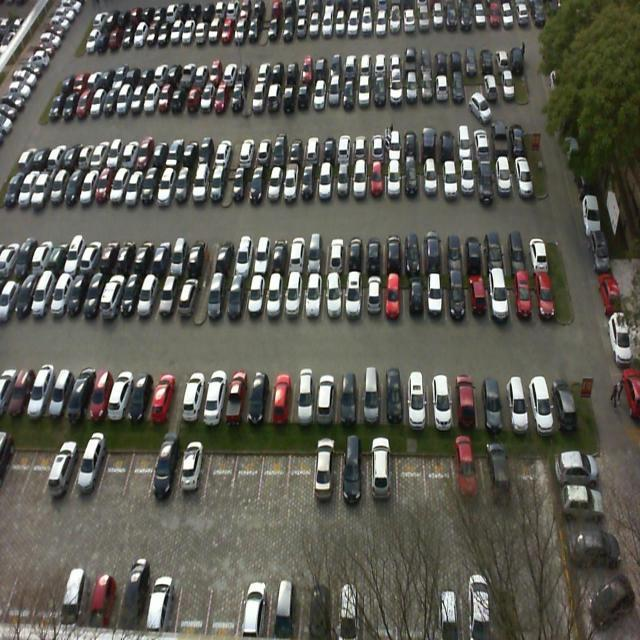Car: (43, 444, 79, 498), (70, 446, 106, 500), (148, 444, 182, 499), (544, 370, 576, 426), (498, 373, 528, 431), (175, 446, 209, 496), (223, 370, 254, 424), (312, 451, 342, 506), (522, 370, 550, 428), (116, 271, 146, 323), (64, 368, 92, 420), (476, 372, 502, 428), (82, 370, 111, 420), (106, 371, 134, 422), (222, 272, 248, 326), (126, 370, 154, 420), (452, 374, 478, 427), (136, 268, 162, 320), (268, 373, 294, 425), (428, 376, 454, 428), (153, 274, 180, 324), (245, 372, 272, 422), (312, 372, 336, 428), (202, 370, 228, 420), (262, 270, 286, 324), (148, 374, 175, 422), (359, 370, 382, 426), (174, 272, 198, 324), (530, 270, 556, 318), (101, 270, 125, 321), (240, 274, 264, 324), (334, 372, 358, 422), (290, 372, 313, 424), (486, 273, 511, 320), (382, 371, 404, 424), (406, 374, 428, 427), (181, 373, 206, 419), (442, 226, 466, 273), (483, 227, 507, 274), (205, 273, 225, 327), (508, 276, 532, 320), (130, 236, 156, 276), (154, 165, 178, 208), (525, 229, 549, 272), (113, 238, 140, 276), (505, 227, 527, 273), (444, 276, 467, 320), (148, 236, 172, 278), (303, 276, 324, 324), (467, 274, 488, 322), (167, 238, 193, 276), (188, 238, 212, 278), (286, 234, 310, 274), (424, 228, 444, 276), (282, 276, 302, 324), (172, 165, 194, 208), (188, 164, 210, 206), (139, 164, 162, 204), (511, 156, 534, 196), (404, 226, 424, 272), (322, 277, 342, 323), (363, 276, 383, 322), (404, 274, 424, 320), (426, 276, 446, 322), (228, 238, 252, 276), (230, 163, 252, 204), (382, 231, 404, 272), (464, 228, 484, 273), (204, 166, 226, 206), (344, 231, 364, 275), (306, 234, 328, 273), (212, 239, 235, 276), (384, 276, 402, 322), (251, 235, 273, 272), (268, 236, 290, 273), (345, 275, 362, 321), (324, 235, 344, 273), (266, 166, 284, 207), (282, 163, 300, 204), (364, 235, 383, 273), (478, 158, 496, 198), (458, 162, 478, 197), (494, 160, 514, 195), (299, 166, 317, 204), (368, 162, 386, 200), (250, 166, 268, 203), (332, 166, 350, 202), (403, 162, 421, 198), (422, 162, 440, 198), (440, 162, 458, 194), (388, 162, 403, 200), (316, 166, 332, 201), (351, 164, 367, 198)
Vacant: (94, 444, 132, 502), (122, 442, 158, 502), (230, 450, 264, 504), (204, 448, 238, 499), (259, 448, 291, 500), (21, 446, 55, 494), (288, 449, 314, 504)
